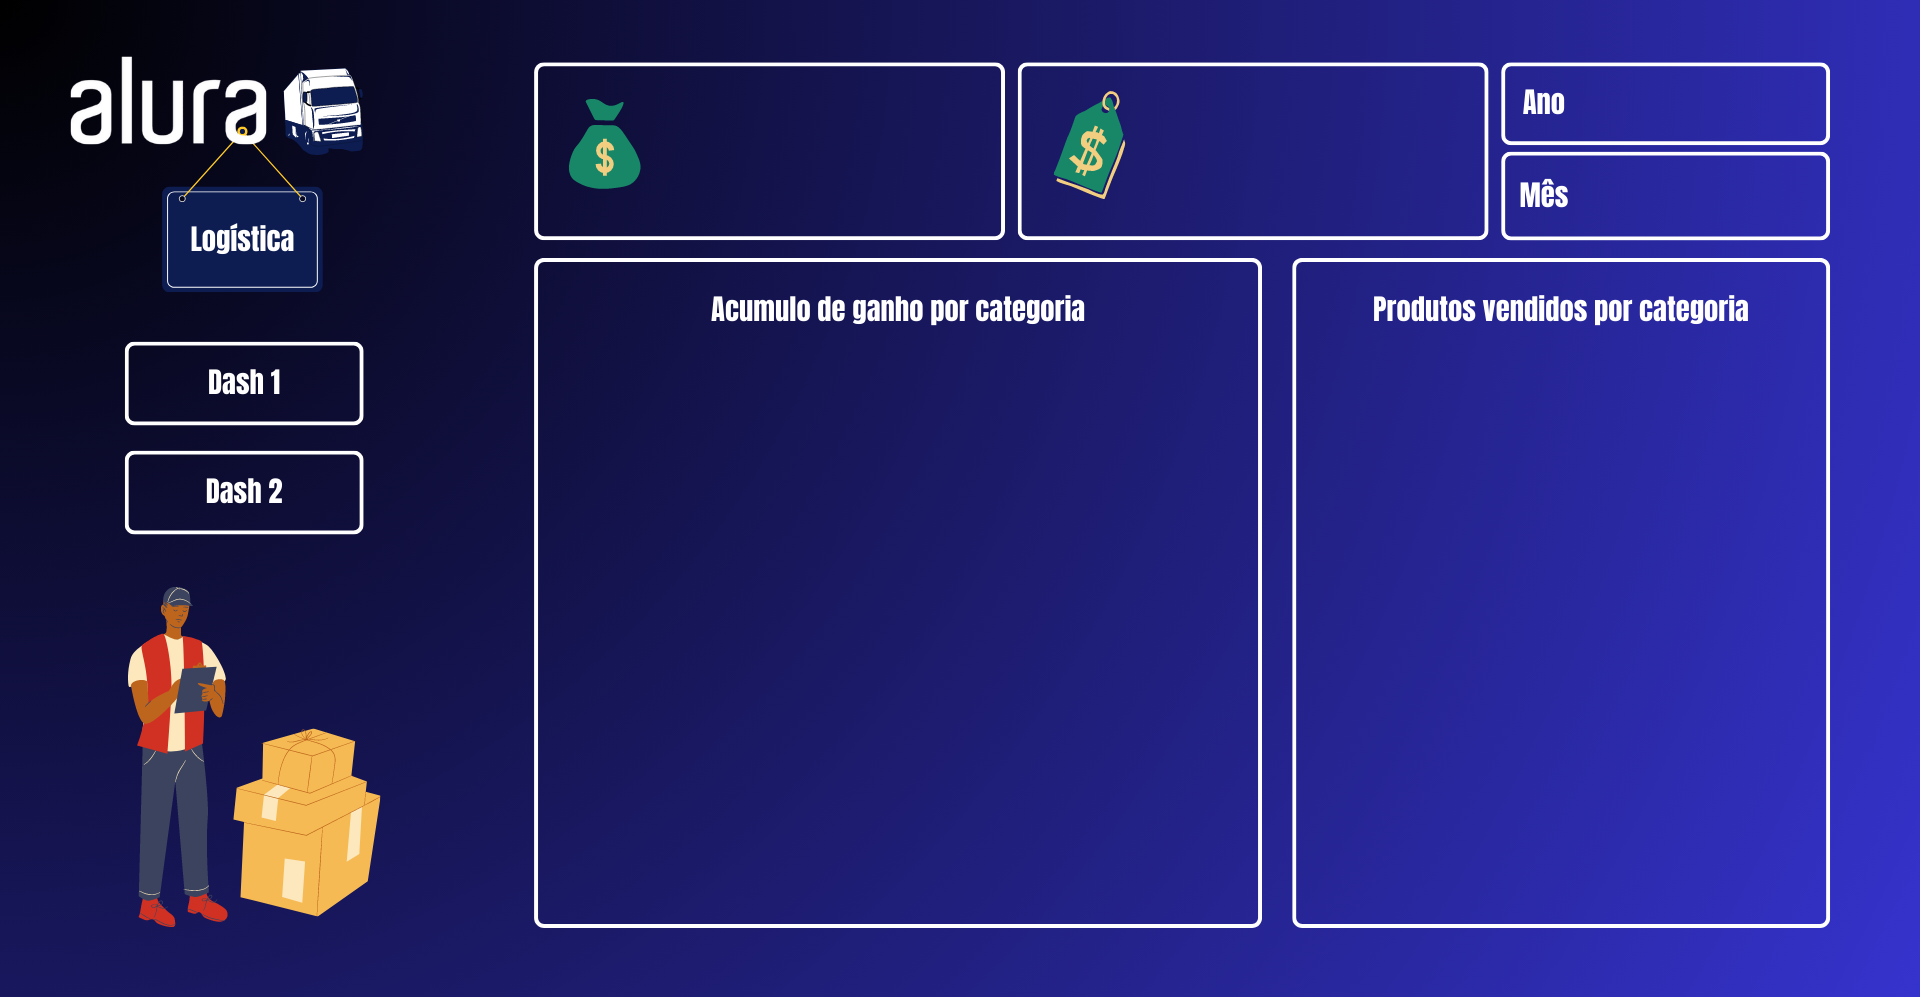

This screenshot's page, from the dashboard's own definition file:
{"tool":"powerbi","page":{"name":"Financeiro","canvas":[1280,720],"ordinal":1},"visuals":[{"type":"actionButton","box":[62.7,250,154.5,47.3],"z":0},{"type":"card","fields":{"Values":["Medidas.Soma de Vendas"]},"box":[792.7,48.2,212.7,98.2],"z":1000},{"type":"card","fields":{"Values":["Medidas.Qtd Produtos Vendidos"]},"box":[454.5,48.2,204.5,98.2],"z":2000},{"type":"slicer","fields":{"Values":["Pedidos.Data da compra.Variation.Hierarquia de datas.Ano"]},"box":[1093.6,41.8,186.4,49.1],"z":3000},{"type":"slicer","fields":{"Values":["Pedidos.Data da compra.Variation.Hierarquia de datas.Mês"]},"box":[1093.6,110.9,186.4,48.2],"z":4000},{"type":"tableEx","fields":{"Values":["Medidas.Rank de Categoria","Produtos.categoria_produto","Medidas.Soma de Vendas","Medidas.Soma Acum Categorias","Medidas.% Acum Categorias"]},"box":[368.2,237.3,489.1,429.1],"z":5000},{"type":"barChart","fields":{"Category":["Produtos.categoria_produto"],"Y":["Medidas.Qtd Produtos Vendidos"]},"box":[899.1,237.3,380.9,414.5],"z":6000}]}

Visuals, with their boxes on the page's 1280x720 design canvas (x1, y1, x2, y2). These are canvas units, not pixel positions in the 1920x997 screenshot, which may show the page scaled, cropped or inside an application window:
actionButton: pyautogui.locateOnScreen(63, 250, 217, 297)
card - Medidas.Soma de Vendas: pyautogui.locateOnScreen(793, 48, 1005, 146)
card - Medidas.Qtd Produtos Vendidos: pyautogui.locateOnScreen(454, 48, 659, 146)
slicer - Pedidos.Data da compra.Variation.Hierarquia de datas.Ano: pyautogui.locateOnScreen(1094, 42, 1280, 91)
slicer - Pedidos.Data da compra.Variation.Hierarquia de datas.Mês: pyautogui.locateOnScreen(1094, 111, 1280, 159)
tableEx - Medidas.Rank de Categoria x Produtos.categoria_produto: pyautogui.locateOnScreen(368, 237, 857, 666)
barChart - Produtos.categoria_produto x Medidas.Qtd Produtos Vendidos: pyautogui.locateOnScreen(899, 237, 1280, 652)
